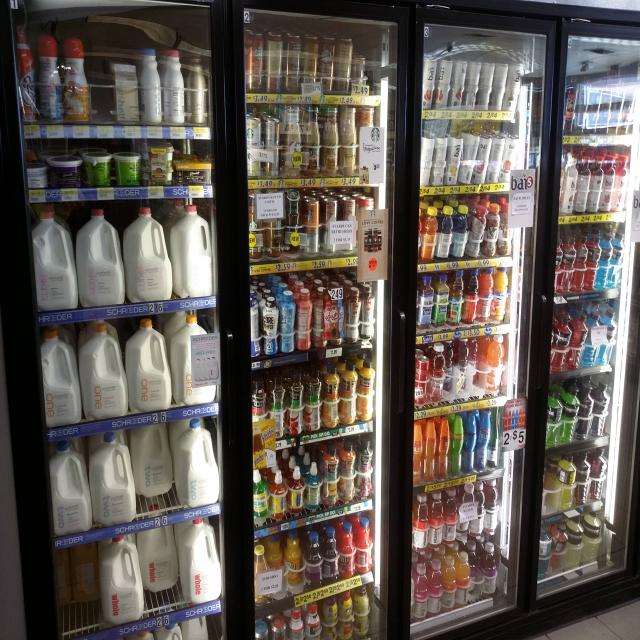empty: (86, 36, 113, 131)
